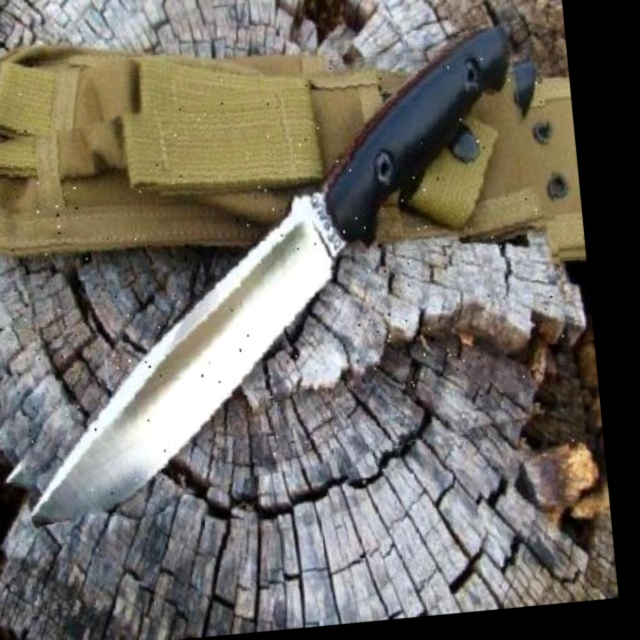Sharp-Object: (0, 40, 579, 512)
